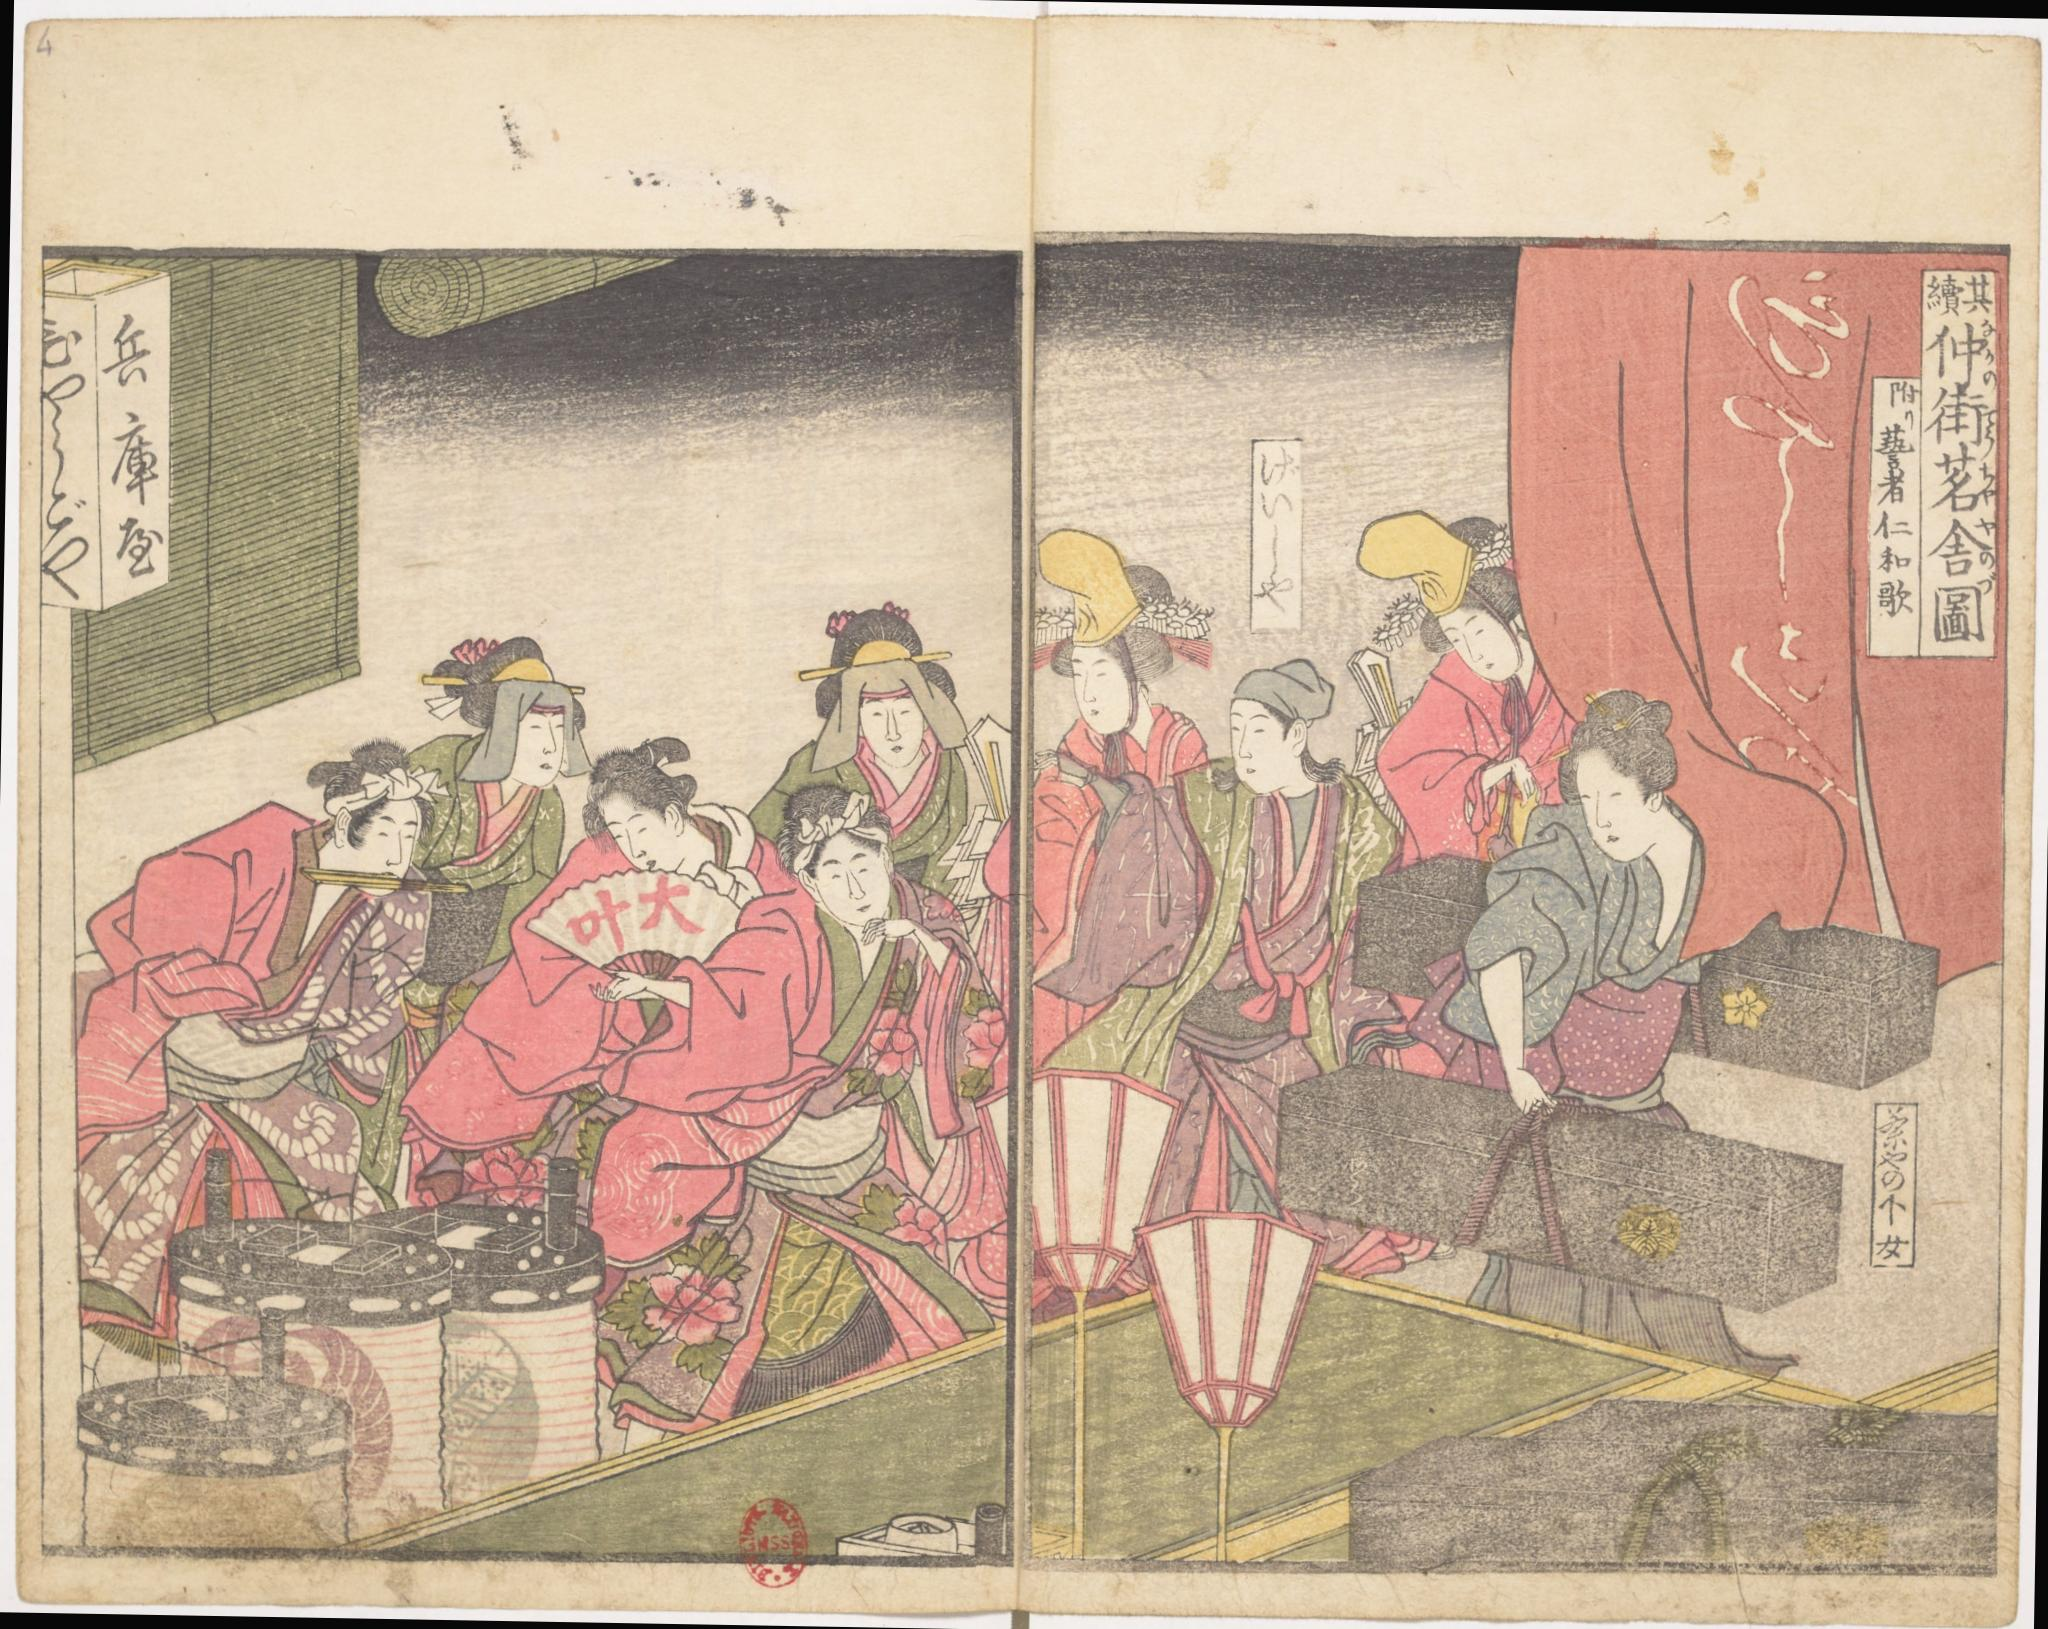MainZone-Character: (1928, 570, 2001, 645), (1925, 313, 2000, 384), (1920, 381, 2000, 447), (1925, 449, 2000, 514), (1930, 514, 2003, 573)
MainZone-Ruby: (1980, 317, 1998, 389), (1975, 515, 2000, 565), (1978, 459, 2000, 505), (1982, 402, 2000, 454), (1973, 570, 2001, 597)
